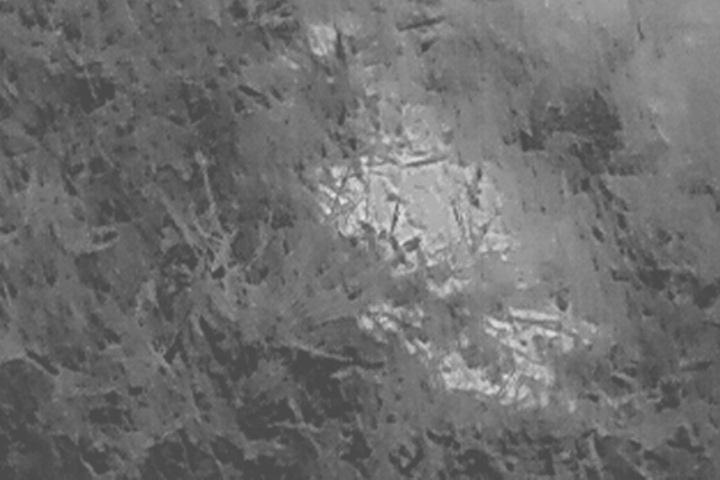landmine: (321, 144, 505, 274)
